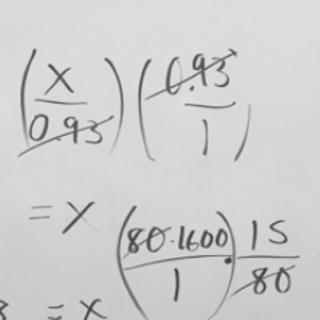.: (165, 236, 177, 246)
0: (163, 56, 185, 97), (28, 112, 53, 143), (147, 225, 165, 253), (274, 265, 292, 293), (200, 229, 216, 251), (214, 228, 230, 249)
1: (199, 116, 212, 157), (169, 267, 182, 302), (248, 220, 259, 249), (176, 225, 185, 248)
3: (213, 54, 230, 89), (86, 118, 103, 148)
5: (267, 218, 290, 246)
6: (186, 229, 199, 253)
8: (252, 267, 270, 293)
9: (192, 51, 210, 89), (64, 116, 80, 147)
